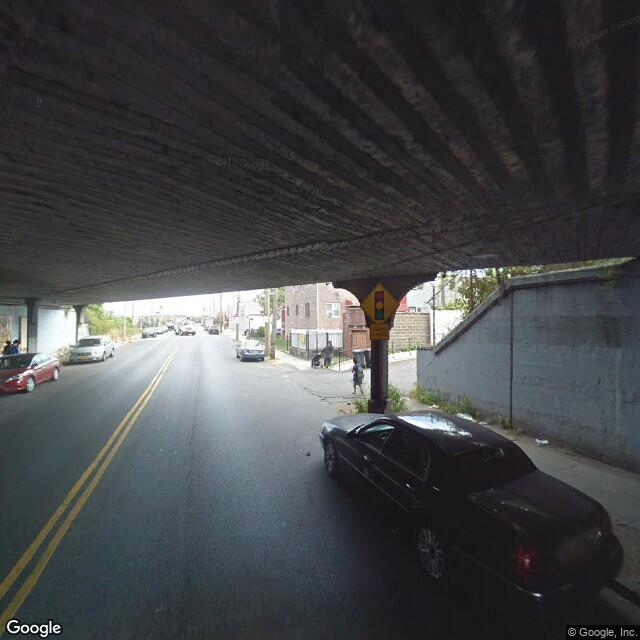litter: (454, 410, 491, 425), (384, 521, 405, 534), (536, 434, 550, 449), (396, 394, 415, 403), (424, 401, 441, 410)
